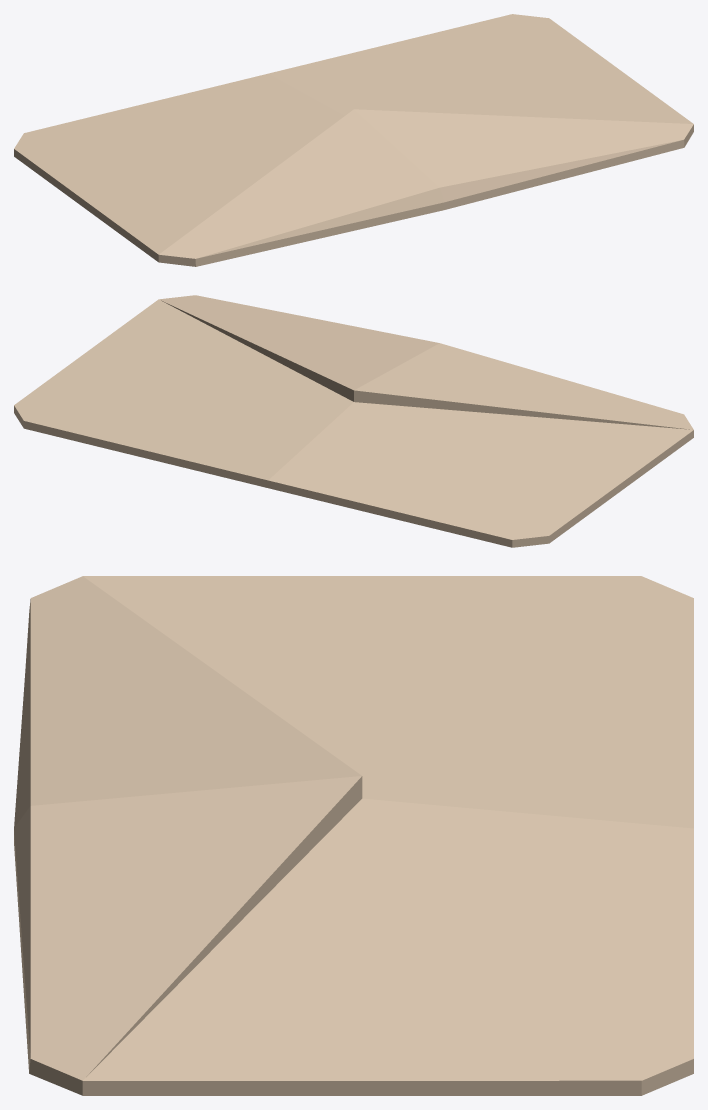
Rendered from Letter.fbx.
3 renders of one model, top to bottom at view 1: azimuth 30°, elevation 25°; view 2: azimuth 150°, elevation 25°; view 3: azimuth 270°, elevation 25°, orthographic. The views are drawn at different scales.
Parts seen in each view (by area): view 1: Letter; view 2: Letter; view 3: Letter.
Boxes of the visible parts, x1=… form: Letter: x1=14, y1=14, x2=693, y2=266; Letter: x1=14, y1=295, x2=693, y2=547; Letter: x1=14, y1=576, x2=693, y2=1095.
Bounding box in the file's own units: 14.4 × 8.2 × 0.8991.
